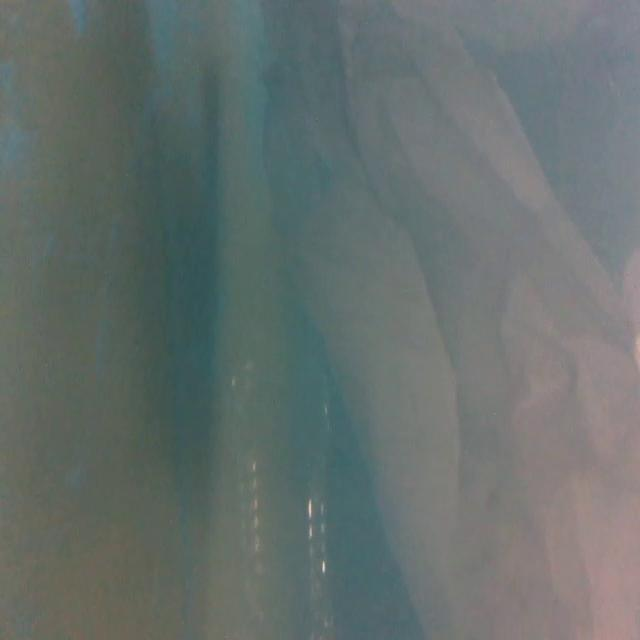plastic bags: (248, 0, 640, 640)
plastic bottle: (226, 336, 352, 640)
